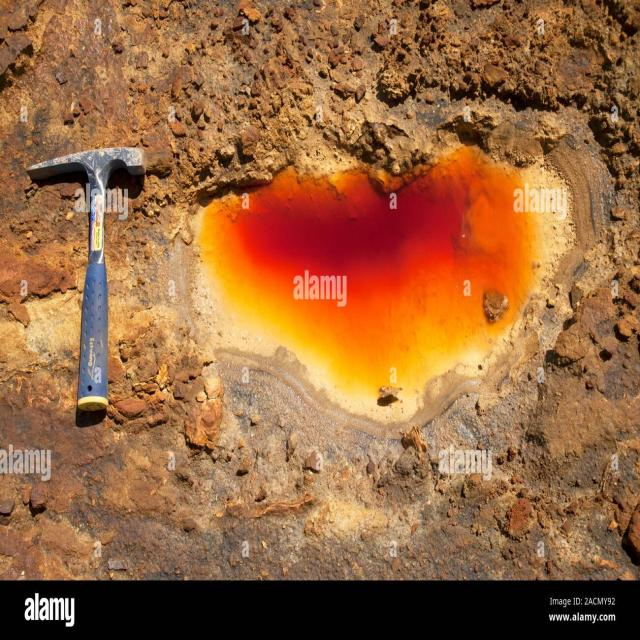yellow_boy: (200, 150, 540, 412)
